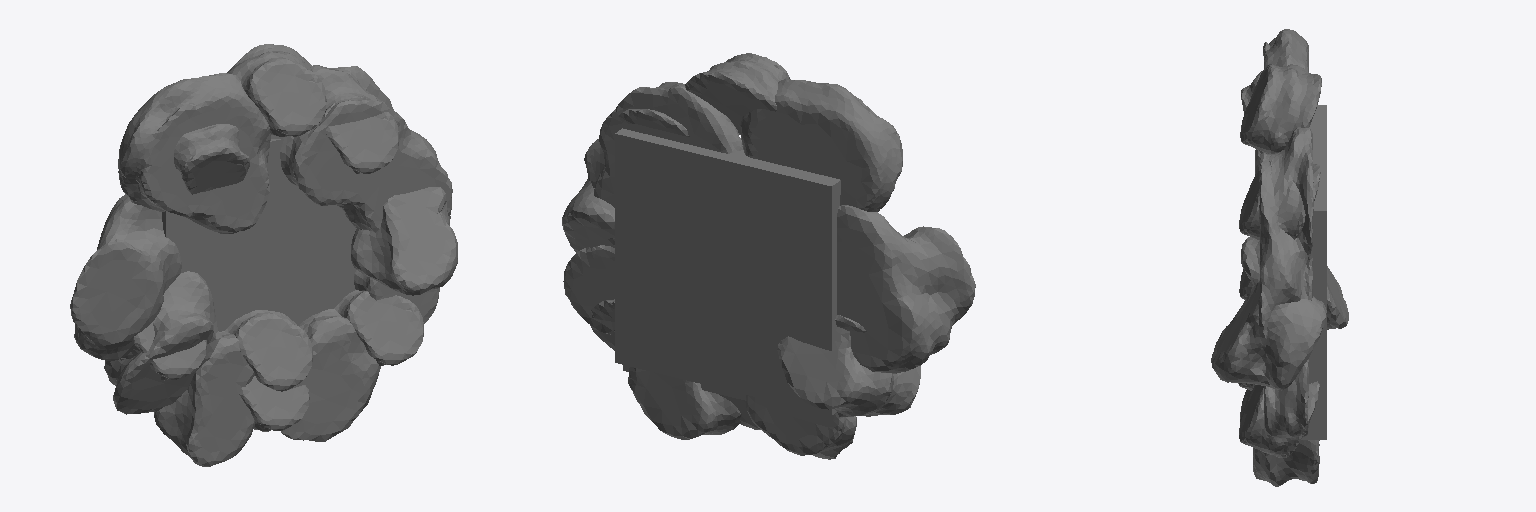
File: rocks3.obj
3 renders of one model, left to right at view 1: azimuth 30°, elevation 25°; view 2: azimuth 150°, elevation 25°; view 3: azimuth 270°, elevation 25°, orthographic.
Visible parts, largest first — view 1: Cube, ShortFlatRock_A, ShortFlatRock_B, ShortFlatRock_C, ShortFlatRock_E.001, ShortFlatRock_E, ShortFlatRock_D.001, ShortFlatRock_D, ShortFlatRock_F.004, ShortFlatRock_F.007, ShortFlatRock_F.003, ShortFlatRock_F.002 (+4 smaller); view 2: Cube, ShortFlatRock_C, ShortFlatRock_A, ShortFlatRock_D.001, ShortFlatRock_B, ShortFlatRock_D, ShortFlatRock_F.004, ShortFlatRock_E, ShortFlatRock_F, ShortFlatRock_E.001, ShortFlatRock_F.006, ShortFlatRock_F.003; view 3: ShortFlatRock_B, ShortFlatRock_E.001, ShortFlatRock_F.004, Cube, ShortFlatRock_F, ShortFlatRock_F.006, ShortFlatRock_F.003, ShortFlatRock_D, ShortFlatRock_D.001, ShortFlatRock_A.
Boxes of the visible parts, box(x1,y1,x2,y2) form: Cube: box(162, 139, 356, 331); ShortFlatRock_A: box(118, 73, 270, 233); ShortFlatRock_B: box(271, 65, 452, 232); ShortFlatRock_C: box(70, 194, 181, 361); ShortFlatRock_E.001: box(351, 187, 457, 295); ShortFlatRock_E: box(154, 331, 254, 466); ShortFlatRock_D.001: box(104, 271, 221, 414); ShortFlatRock_D: box(281, 309, 380, 441); ShortFlatRock_F.004: box(227, 44, 326, 136); ShortFlatRock_F.007: box(225, 310, 312, 391); ShortFlatRock_F.003: box(334, 290, 423, 365); ShortFlatRock_F.002: box(174, 124, 249, 194); Cube: box(615, 128, 840, 415); ShortFlatRock_C: box(837, 205, 975, 373); ShortFlatRock_A: box(741, 79, 902, 211); ShortFlatRock_D.001: box(777, 327, 920, 416); ShortFlatRock_B: box(584, 82, 742, 245); ShortFlatRock_D: box(628, 367, 741, 439); ShortFlatRock_F.004: box(685, 53, 789, 134); ShortFlatRock_E: box(746, 395, 856, 459); ShortFlatRock_F: box(563, 245, 614, 334); ShortFlatRock_E.001: box(562, 176, 614, 252); ShortFlatRock_F.006: box(618, 109, 689, 136); ShortFlatRock_F.003: box(590, 299, 614, 350); ShortFlatRock_B: box(1259, 127, 1313, 349); ShortFlatRock_E.001: box(1211, 281, 1326, 390); ShortFlatRock_F.004: box(1240, 64, 1321, 153); Cube: box(1301, 105, 1326, 439); ShortFlatRock_F: box(1264, 359, 1308, 437); ShortFlatRock_F.006: box(1239, 153, 1320, 240); ShortFlatRock_F.003: box(1239, 381, 1319, 457); ShortFlatRock_D: box(1253, 384, 1319, 486); ShortFlatRock_D.001: box(1241, 237, 1348, 329); ShortFlatRock_A: box(1263, 29, 1308, 153).
Bounding box in the file's own units: 0.1314 × 0.1244 × 0.0399.